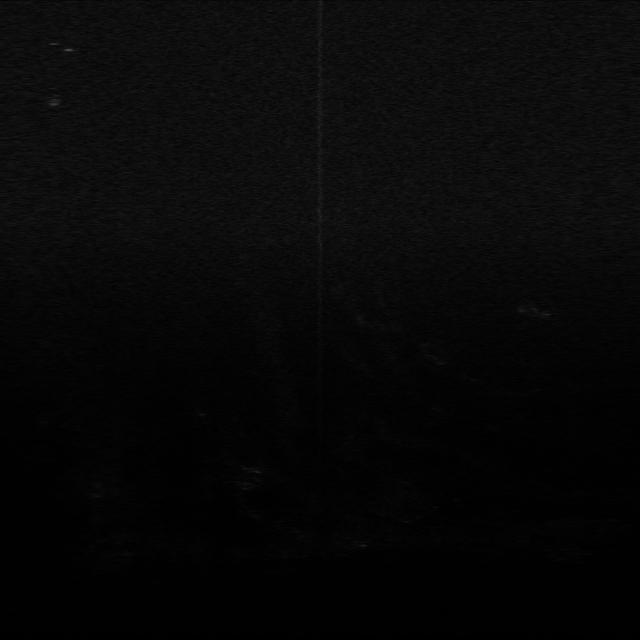rov: (40, 92, 68, 110)
